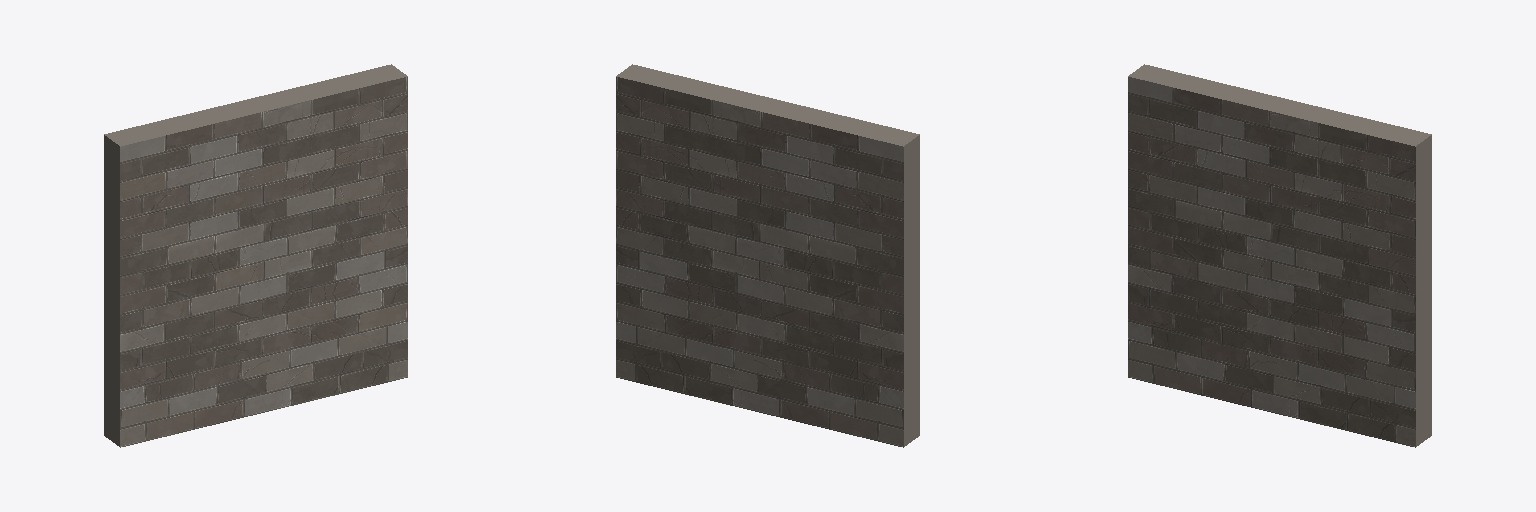
3 renders of one model, left to right at view 1: azimuth 30°, elevation 25°; view 2: azimuth 150°, elevation 25°; view 3: azimuth 330°, elevation 25°, orthographic.
Visible parts, largest first — view 1: wall_clean:SM_Bld_Castle_Wall_58; view 2: wall_clean:SM_Bld_Castle_Wall_58; view 3: wall_clean:SM_Bld_Castle_Wall_58.
Part boxes in pixels (x1,y1,x2,y2): wall_clean:SM_Bld_Castle_Wall_58: (104,64,407,447); wall_clean:SM_Bld_Castle_Wall_58: (616,64,919,447); wall_clean:SM_Bld_Castle_Wall_58: (1128,64,1431,447).
Size of the model in its own units: 5 by 5 by 0.5.
1 materials, 1 textured.